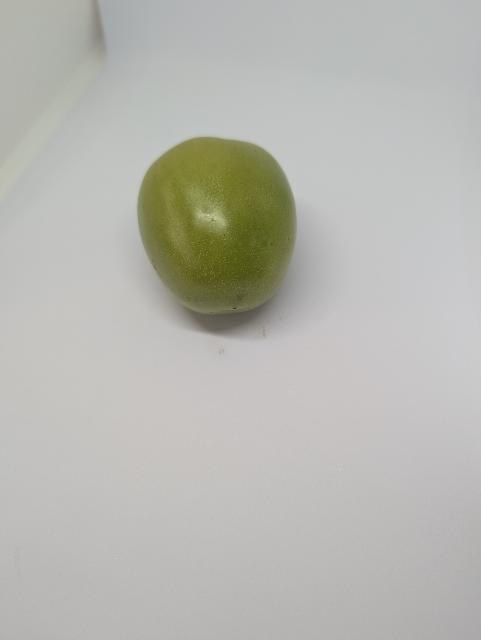green: (136, 135, 300, 316)
